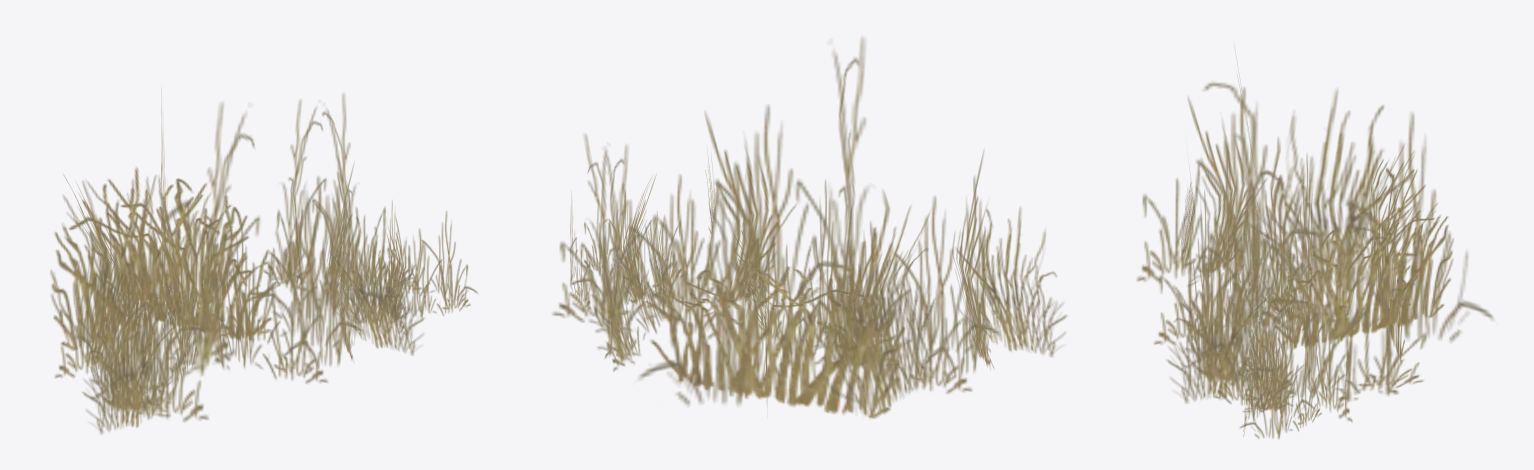
Rendered from 5b49c23f-a17e-46f4-8179-5120dda8300f-dry-grass.glb.
The picture shows the model from 3 angles, left to right: view 1: azimuth 30°, elevation 25°; view 2: azimuth 150°, elevation 25°; view 3: azimuth 270°, elevation 25°; orthographic projection. The views are drawn at different scales.
Visible parts, largest first — view 1: clump_dry_grass_8, clump_dry_grass_7, clump_dry_grass_11, clump_dry_grass_6, clump_dry_grass_10, clump_dry_grass_9, clump_dry_grass_5; view 2: clump_dry_grass_8, clump_dry_grass_11, clump_dry_grass_7, clump_dry_grass_6, clump_dry_grass_10, clump_dry_grass_9, clump_dry_grass_5; view 3: clump_dry_grass_8, clump_dry_grass_7, clump_dry_grass_11, clump_dry_grass_6, clump_dry_grass_9, clump_dry_grass_10, clump_dry_grass_5.
Part boxes in pixels (box(x1,y1,x2,y2)): clump_dry_grass_8: box(50, 90, 277, 384); clump_dry_grass_7: box(211, 164, 424, 383); clump_dry_grass_11: box(54, 218, 208, 434); clump_dry_grass_6: box(247, 93, 387, 323); clump_dry_grass_10: box(181, 102, 260, 376); clump_dry_grass_9: box(346, 200, 477, 334); clump_dry_grass_5: box(271, 99, 326, 287); clump_dry_grass_8: box(639, 162, 935, 418); clump_dry_grass_11: box(828, 151, 1067, 393); clump_dry_grass_7: box(646, 105, 848, 346); clump_dry_grass_6: box(552, 134, 738, 371); clump_dry_grass_10: box(795, 37, 874, 345); clump_dry_grass_9: box(570, 174, 681, 309); clump_dry_grass_5: box(580, 145, 640, 363); clump_dry_grass_8: box(1249, 89, 1493, 361); clump_dry_grass_7: box(1154, 188, 1313, 403); clump_dry_grass_11: box(1136, 87, 1318, 310); clump_dry_grass_6: box(1243, 225, 1426, 422); clump_dry_grass_9: box(1214, 296, 1321, 438); clump_dry_grass_10: box(1203, 50, 1274, 321); clump_dry_grass_5: box(1353, 227, 1401, 395).
Bounding box in the file's own units: 1.37 × 0.9476 × 1.08.
1 material, 1 textured.
